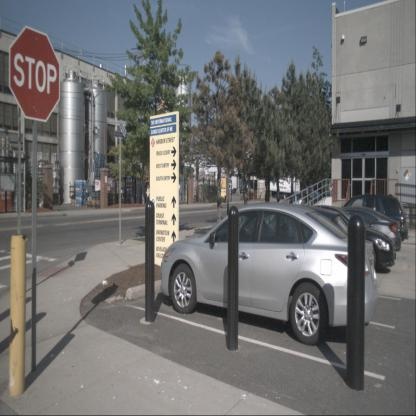human-pedestrian-adult: (146, 184, 150, 209)
vehicle-car: (160, 203, 380, 346), (257, 202, 396, 274), (275, 204, 402, 258), (320, 192, 409, 244)
